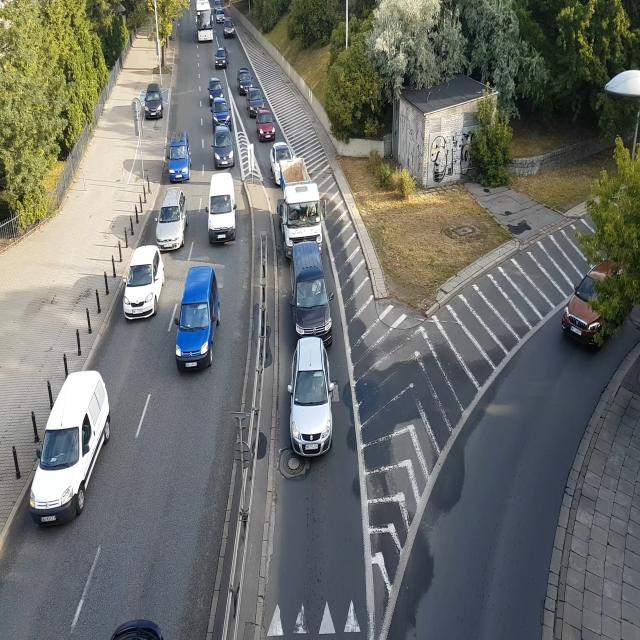bus: (195, 0, 213, 39)
car: (23, 366, 116, 537), (288, 340, 336, 464), (173, 261, 219, 375), (557, 258, 614, 350), (290, 244, 334, 338), (119, 246, 166, 321), (155, 185, 191, 254), (208, 176, 237, 246), (110, 610, 162, 640), (167, 127, 194, 181), (271, 136, 295, 174), (143, 85, 165, 120), (214, 127, 233, 165), (257, 108, 276, 144), (246, 87, 265, 117), (210, 88, 230, 113), (238, 68, 255, 94), (208, 73, 223, 94), (218, 41, 229, 62), (224, 20, 236, 38), (214, 7, 223, 19)
truck: (277, 162, 325, 255)
